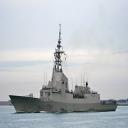Fragata: (9, 1, 119, 77)
